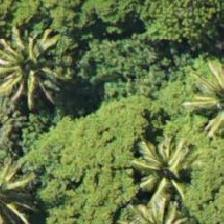coconut_tree: (119, 122, 209, 212), (0, 19, 65, 109)
